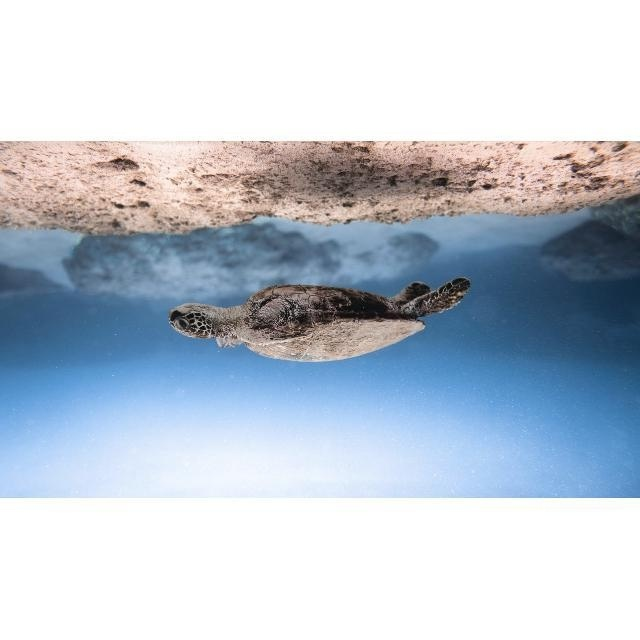turtle: (167, 276, 470, 364)
